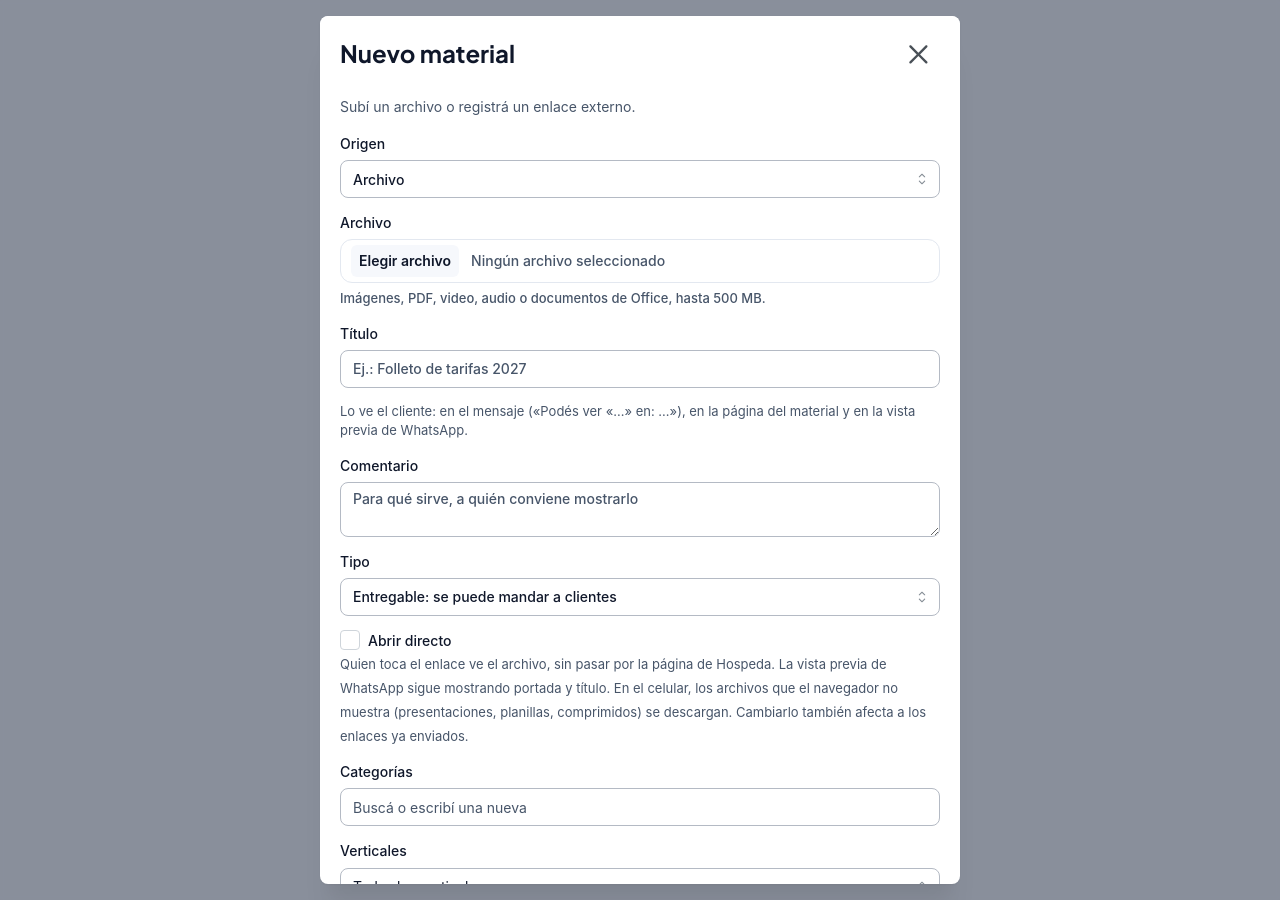
Test case: SalesMaterialForm › spec 102 D6: no «Crear» for a name equal to an existing category by accents/case/spaces, nor for a deactivated one (says where to reactivate it)
This screenshot has width=1280, height=900.
Type "FOLLETOS" into the field labelled "Categorías". click: (462, 807)
box: [353,796,571,818]
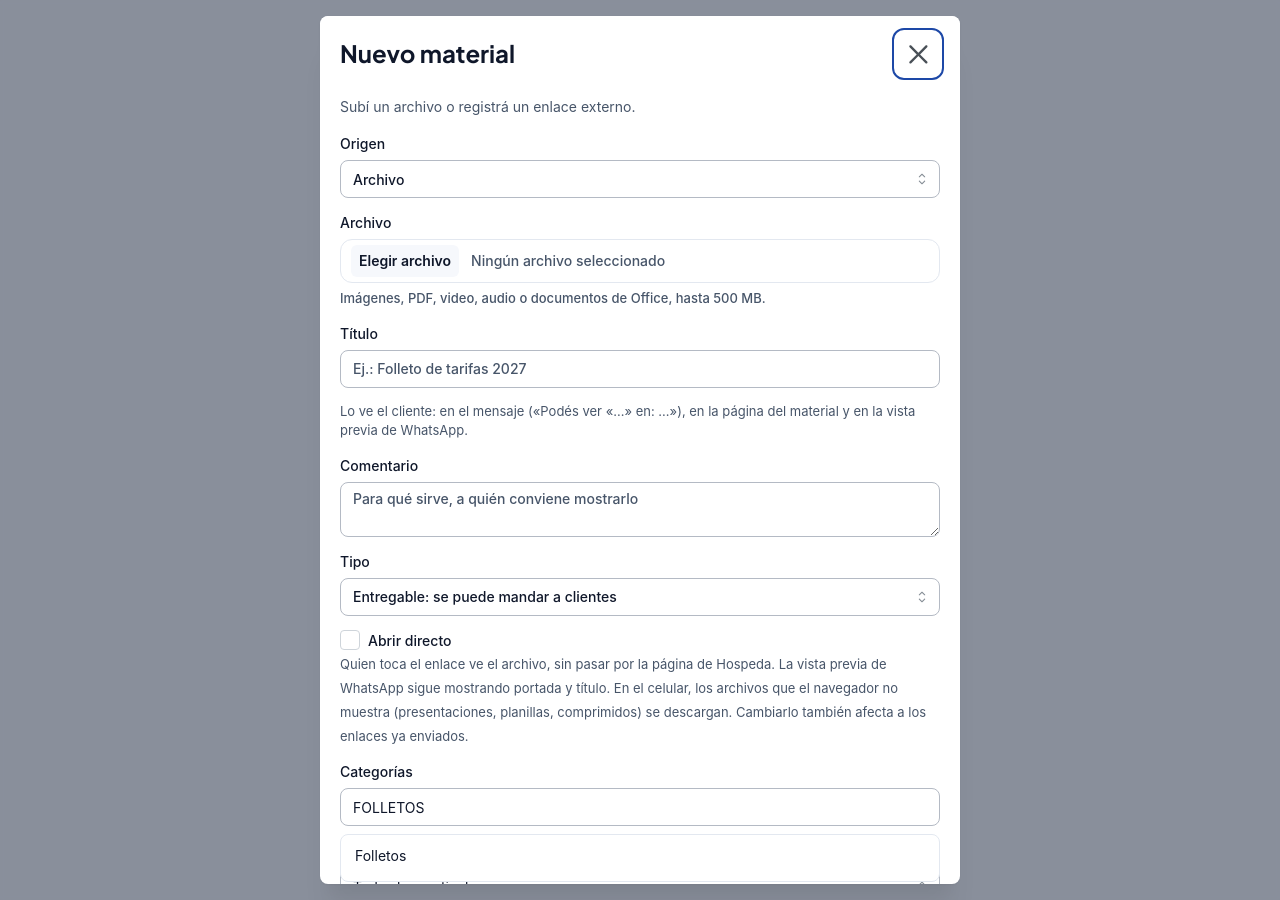
Expected: the option "Folletos" is shown, [355,847,406,864]
Replace the text in the field labelled "Categorías" with "promocion  VIEJA". click: (462, 807)
box: [353,796,571,818]
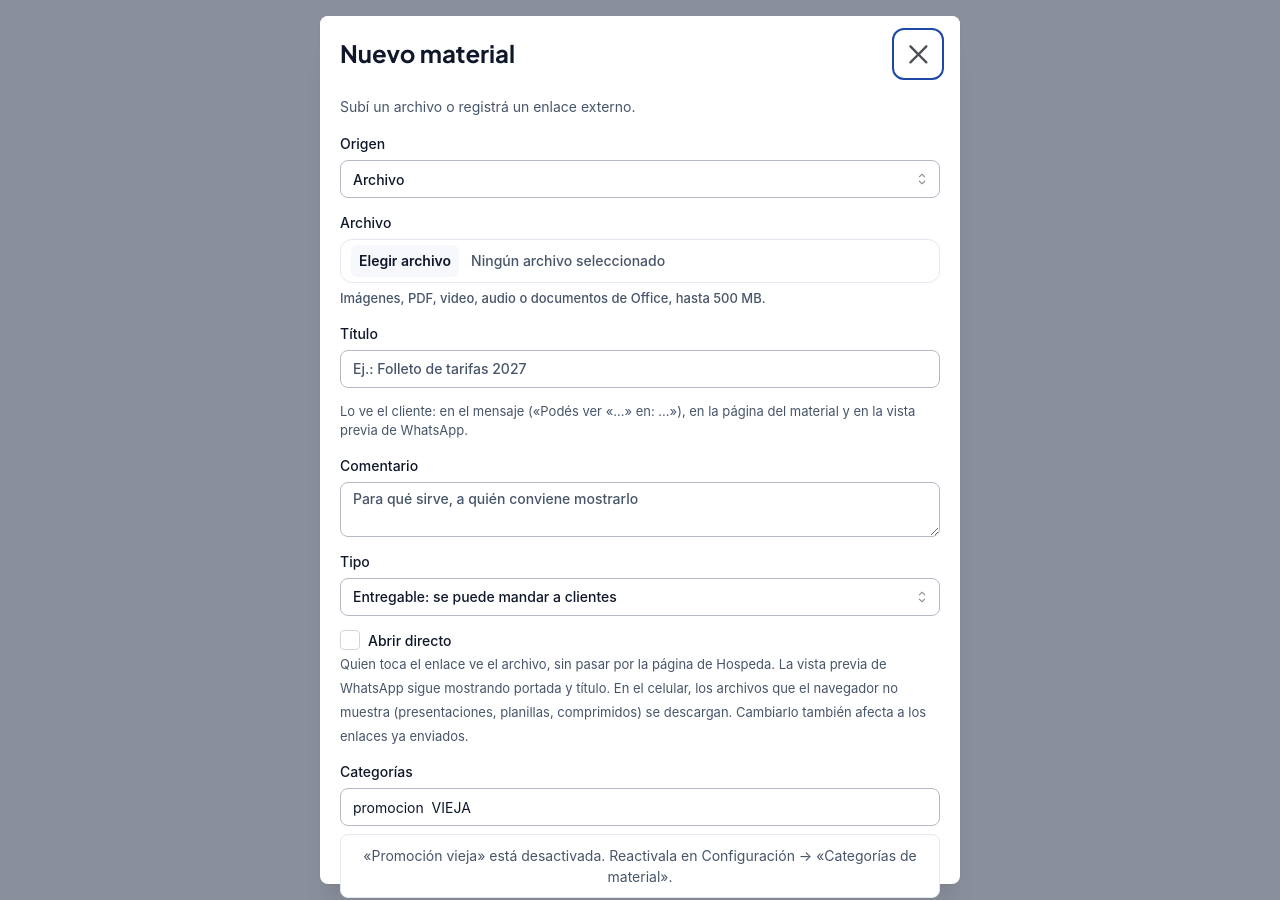
Expected: the text "«Promoción vieja» está desactivada. Reactivala en Configuración → «Categorías de material»." is shown, [363,847,917,884]
